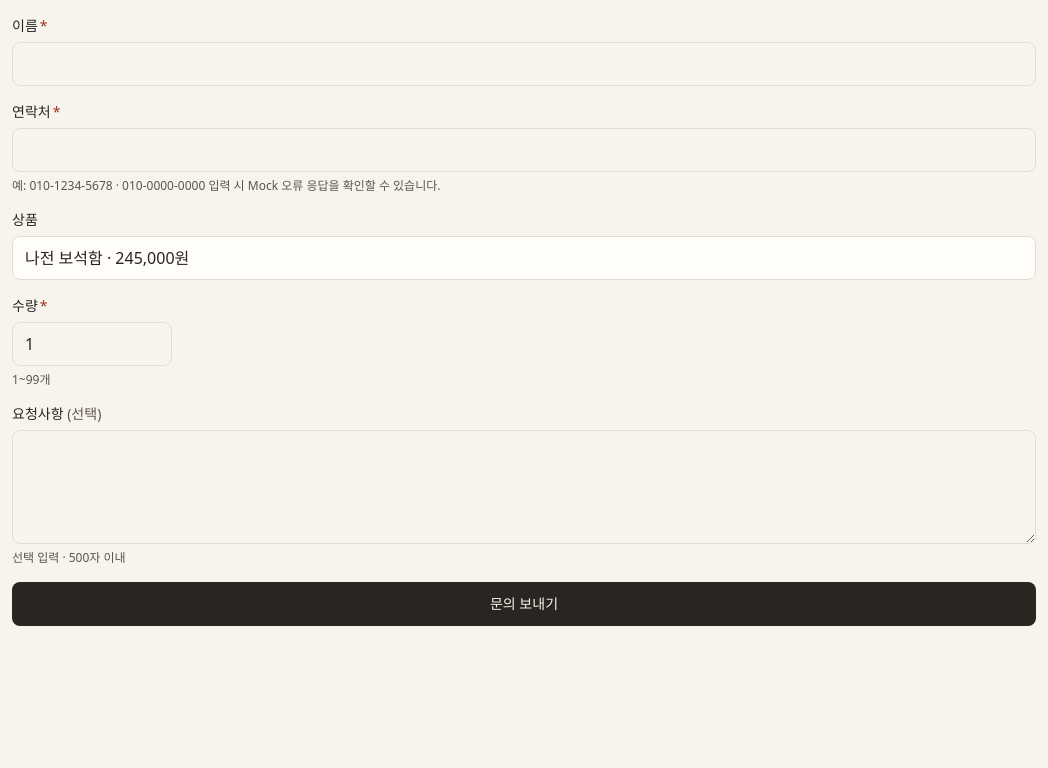
it: OrderInquiryForm › shows an alert on mock failure, keeps values, and allows a retry that succeeds
The width and height of the screenshot is (1048, 768).
Type "홍길동" into the field labelled "이름" at coordinates (524, 64), box [12,42,1036,86]
Type "010-0000-0000" into the field labelled "연락처" at coordinates (524, 150), box [12,128,1036,172]
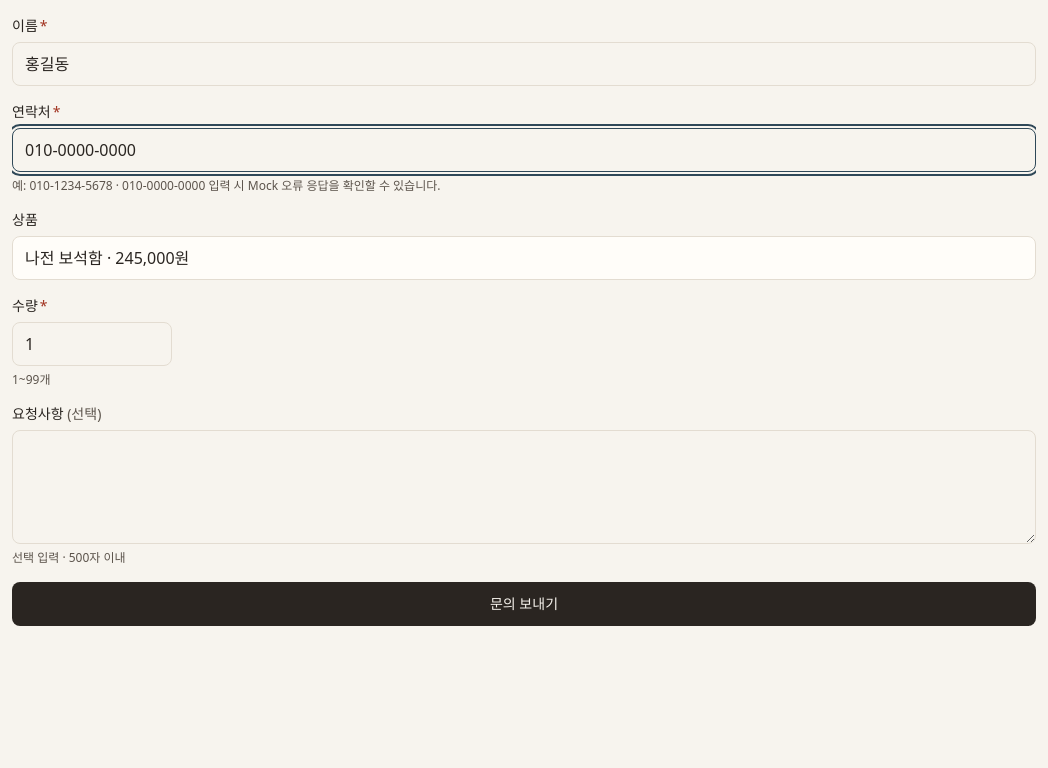
Type "선물 포장이 가능한가요?" into the text box labelled "요청사항 (선택)" at coordinates (524, 487), box [12,430,1036,544]
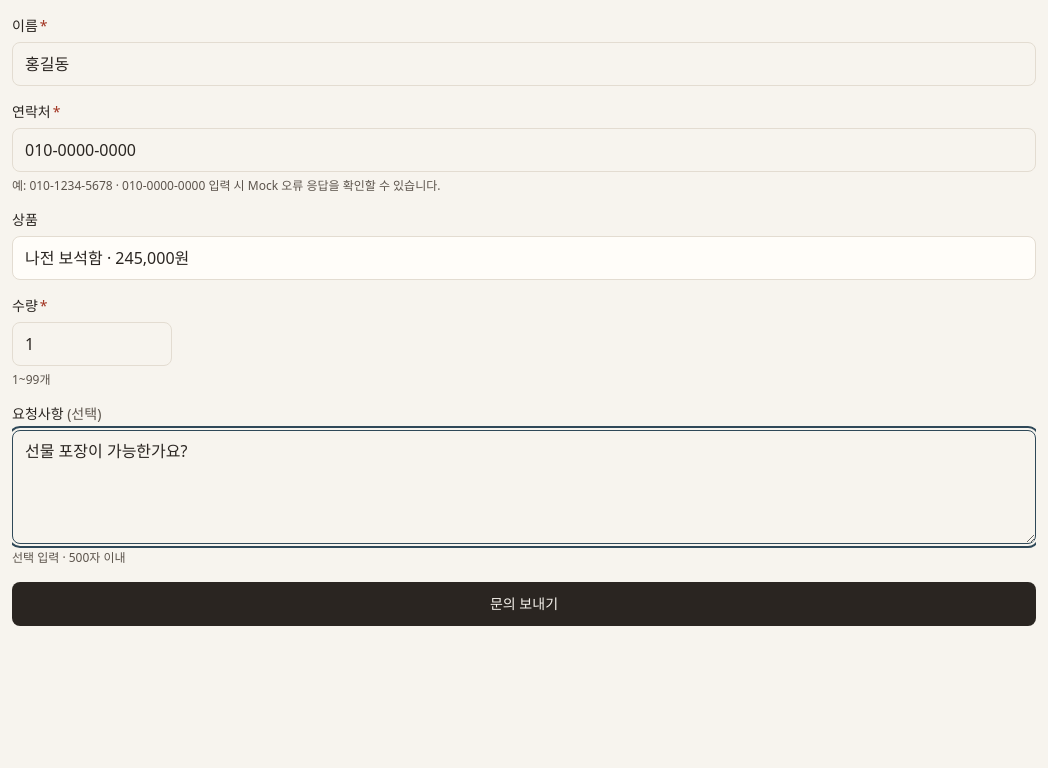
Replace the text in the number field labelled "수량" with "2" at coordinates (92, 344), box [12,322,172,366]
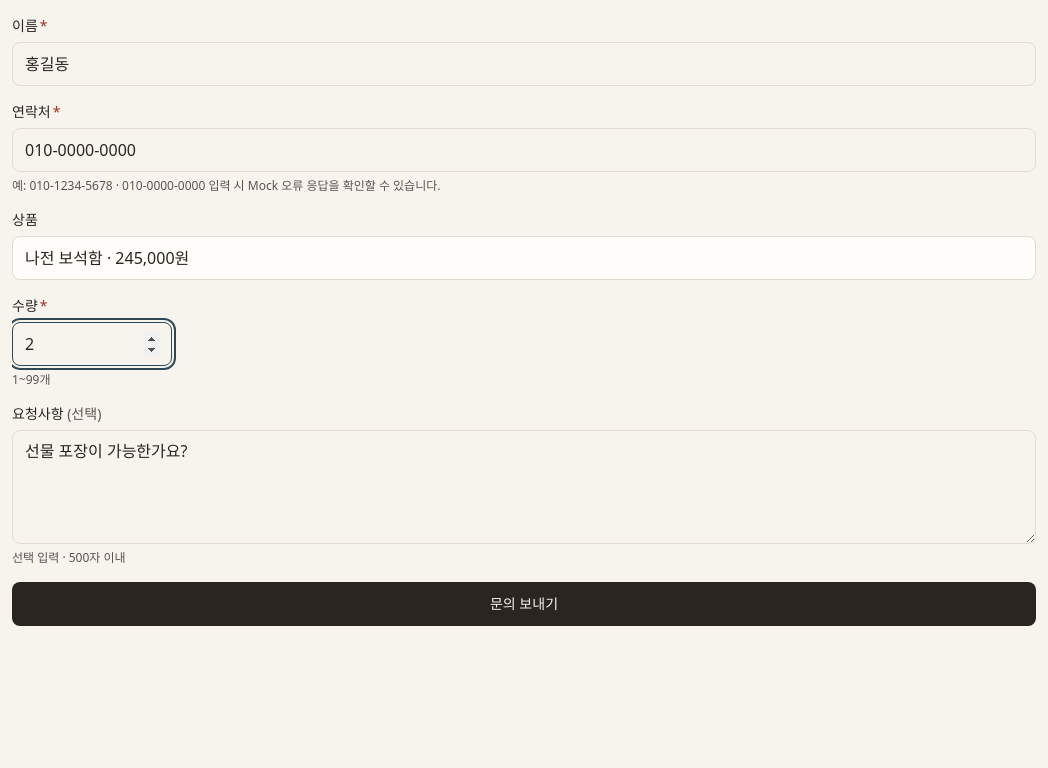
Click the button "문의 보내기" at coordinates (524, 604), box [12,582,1036,626]
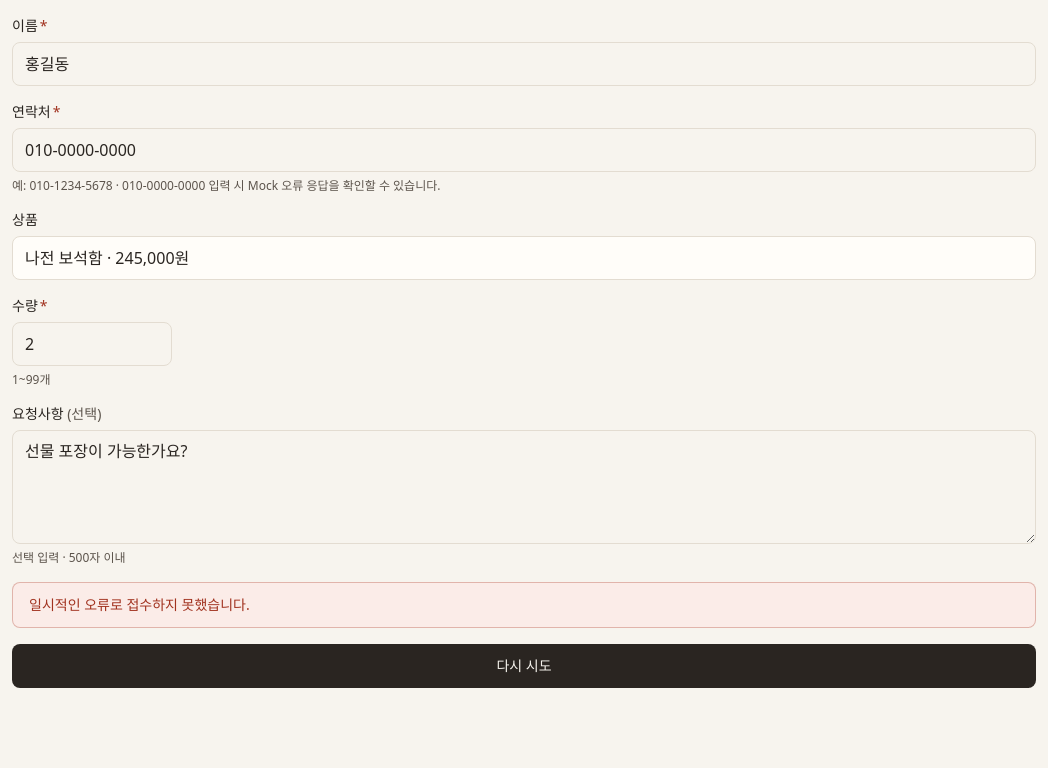
Expected: the message reads "일시적인 오류로 접수하지 못했습니다.", [29,595,250,614]
Replace the text in the field labelled "연락처" with "010-2222-3333" at coordinates (524, 150), box [12,128,1036,172]
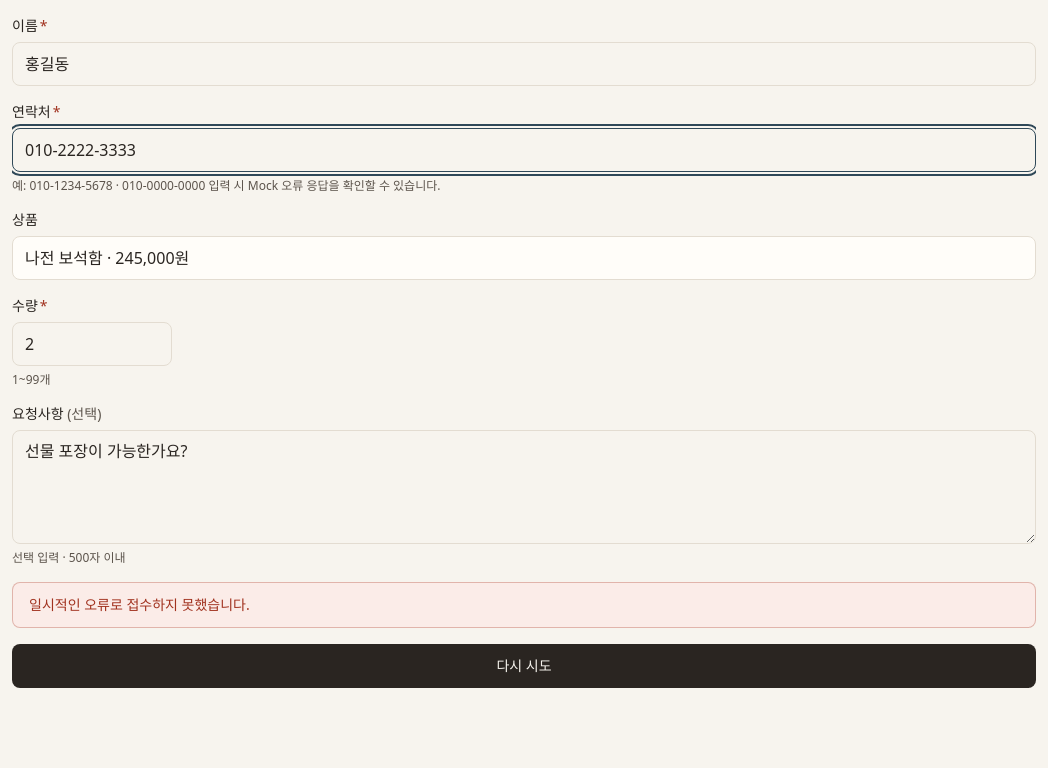
Click the button "다시 시도" at coordinates (524, 666), box [12,644,1036,688]
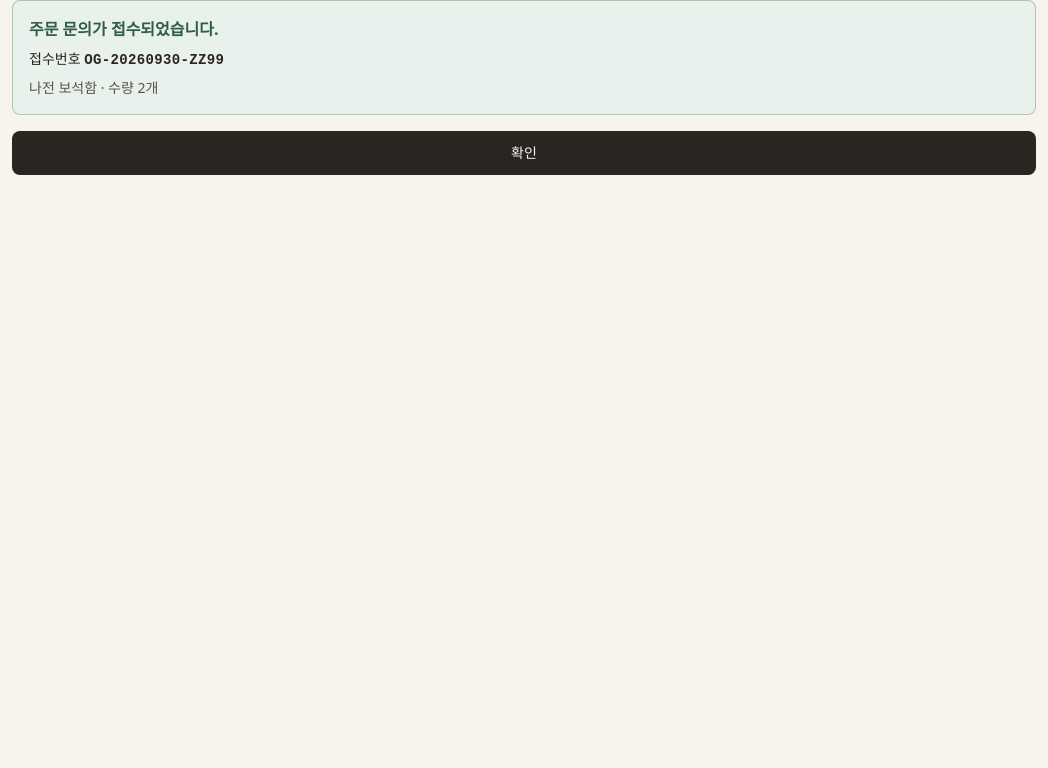
Expected: the text "OG-20260930-ZZ99" is shown, [84,52,224,68]
